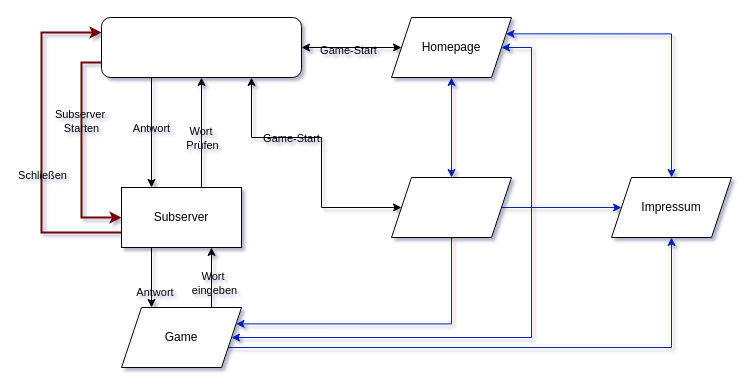
This 755x391 diagram has some shape labels left out. The shapes that lost their labels are listed below. From the top down, each one's box as (x1, y1, x2, y2) in pixels, then its label:
(100, 16, 302, 78): Server
(390, 176, 512, 238): Lobby
